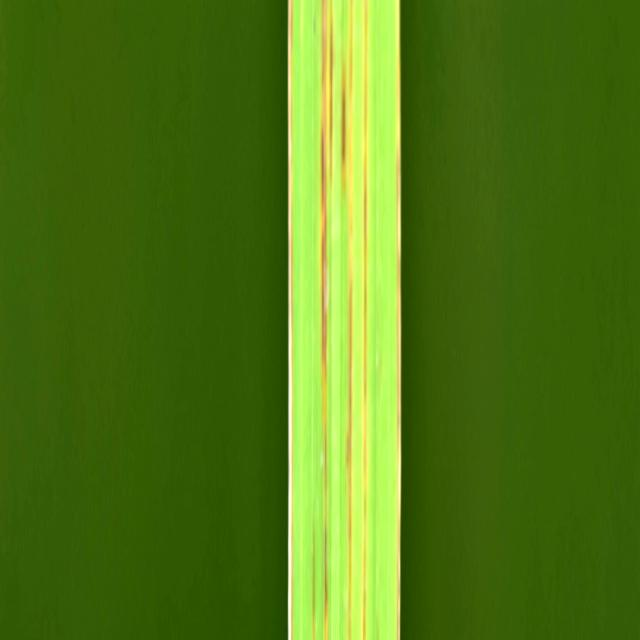BLS: (321, 0, 329, 640), (346, 0, 353, 640), (361, 1, 368, 640), (288, 0, 292, 640), (329, 2, 333, 189), (341, 69, 345, 187), (312, 531, 315, 640), (376, 618, 379, 640)
